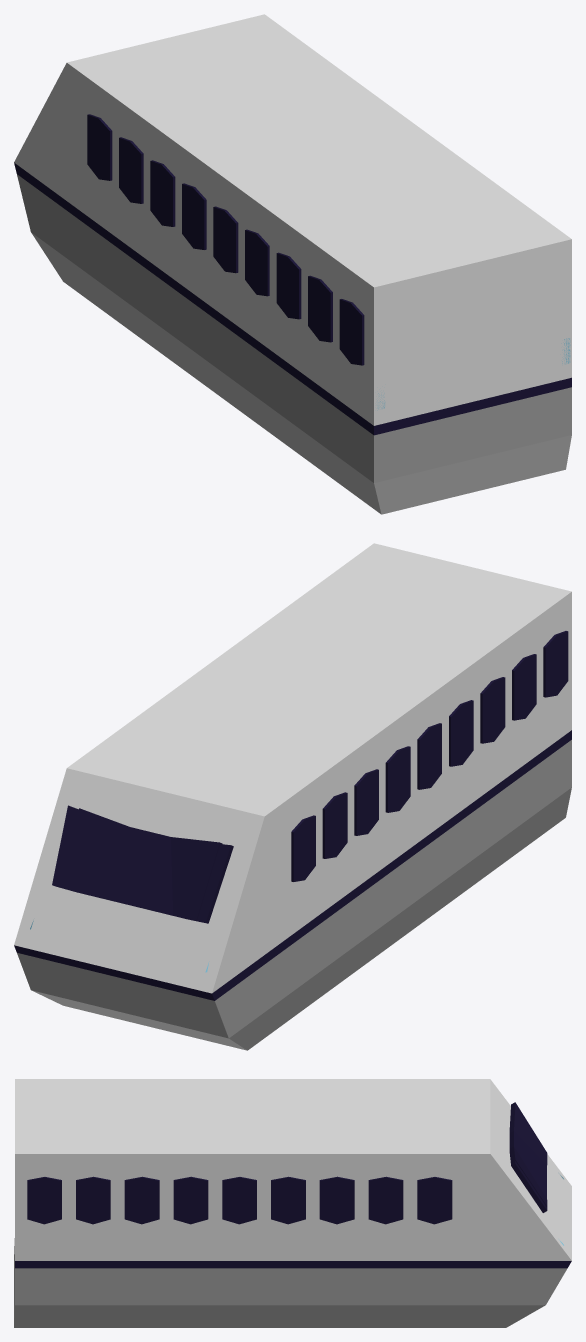
File: head.fbx
3 renders of one model, top to bottom at view 1: azimuth 30°, elevation 25°; view 2: azimuth 150°, elevation 25°; view 3: azimuth 270°, elevation 25°, orthographic. The views are drawn at different scales.
Parts seen in each view (by area): view 1: tail; view 2: tail; view 3: tail.
Boxes of the visible parts, x1=… form: tail: x1=14, y1=14, x2=571, y2=514; tail: x1=14, y1=543, x2=571, y2=1050; tail: x1=14, y1=1079, x2=571, y2=1327.
Bounding box in the file's own units: 220 × 233 × 668.
